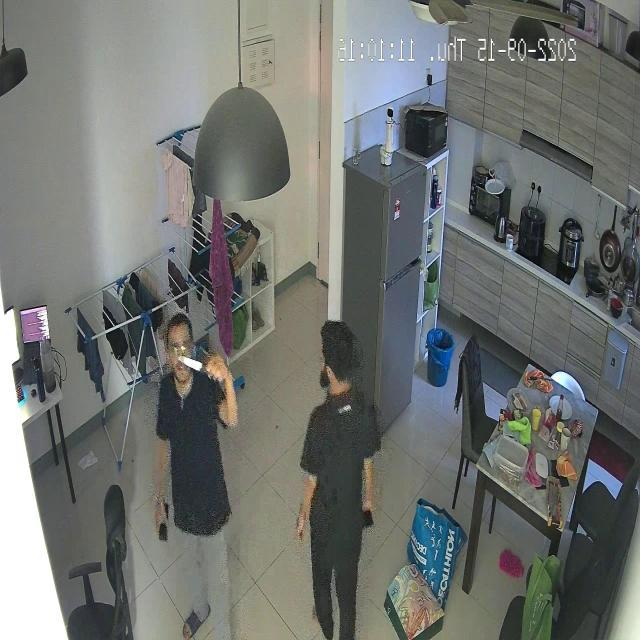Knife: (175, 352, 231, 388)
